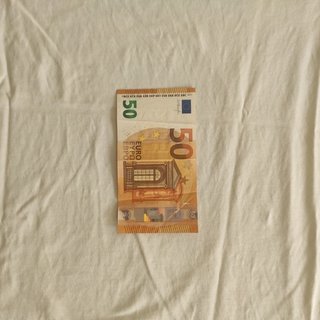50EUROFront: (115, 86, 198, 234)
